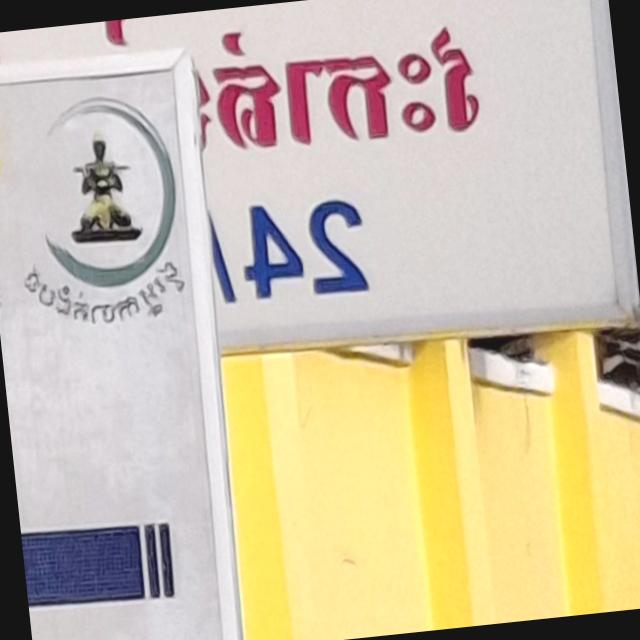893: (12, 241, 202, 346)
Yolov11kh: (202, 0, 499, 179)
